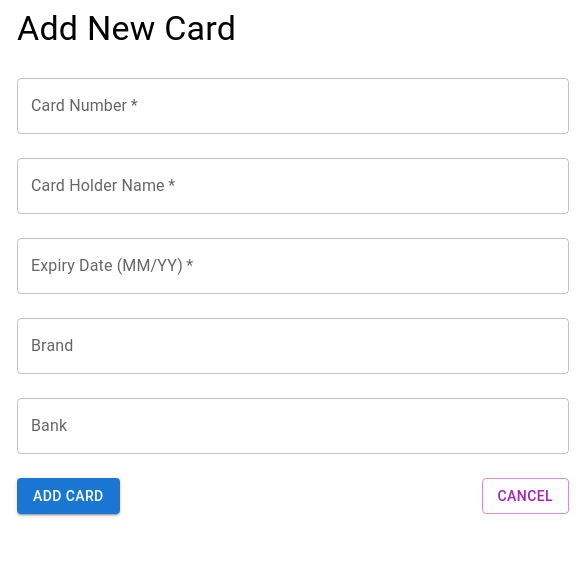
Test: AddCard Component › Unhappy Paths › should show error message when server returns an error
// Fill in the form
Type "4111111111111111" into the field labelled "Card Number *" at (293, 106), box [17,78,569,134]
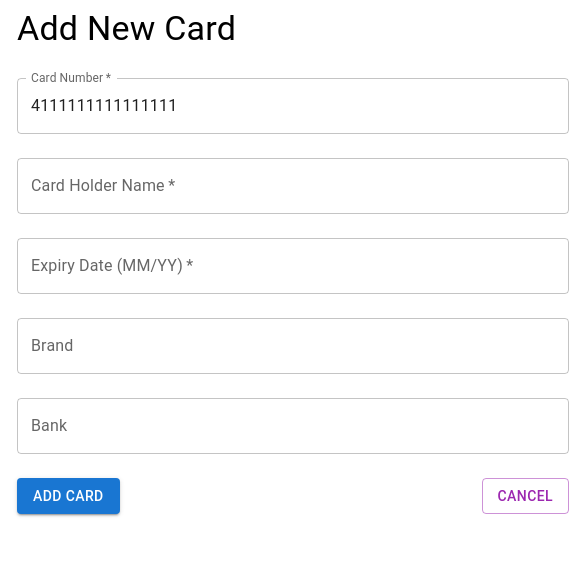
Type "John Doe" into the field labelled "Card Holder Name *" at (293, 186), box [17,158,569,214]
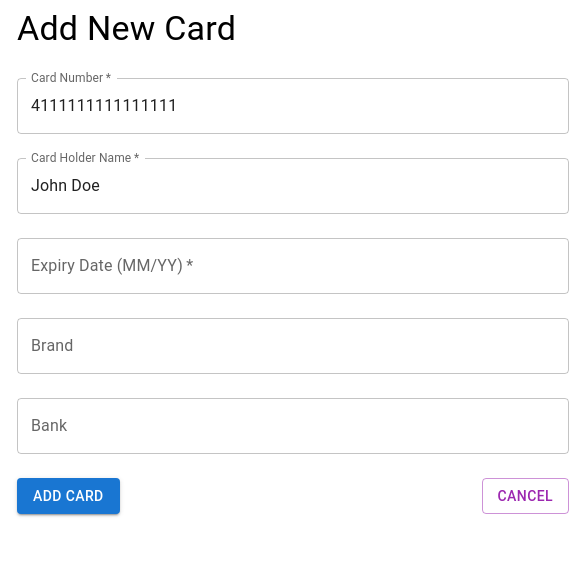
Type "12/25" into the field labelled "Expiry Date (MM/YY) *" at (293, 266), box [17,238,569,294]
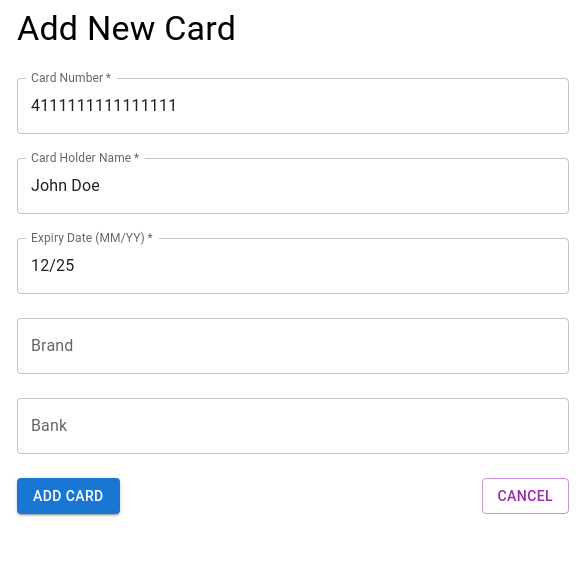
// Submit the form
Click the button "Add Card" at (68, 496), box [17,478,120,514]
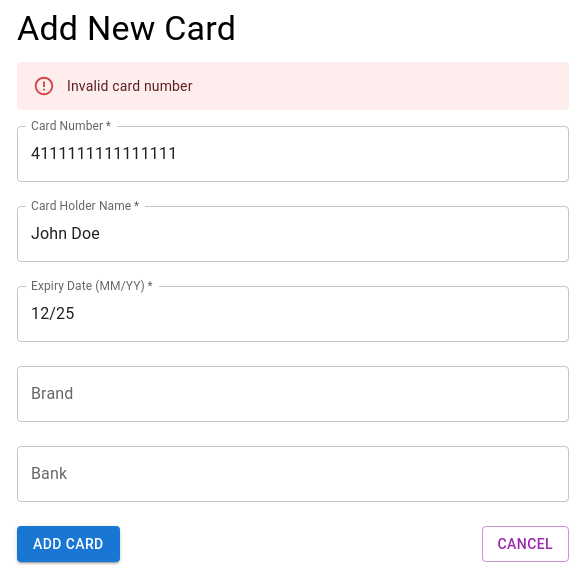
Expected: the text "Invalid card number" is shown, [67,78,192,94]
